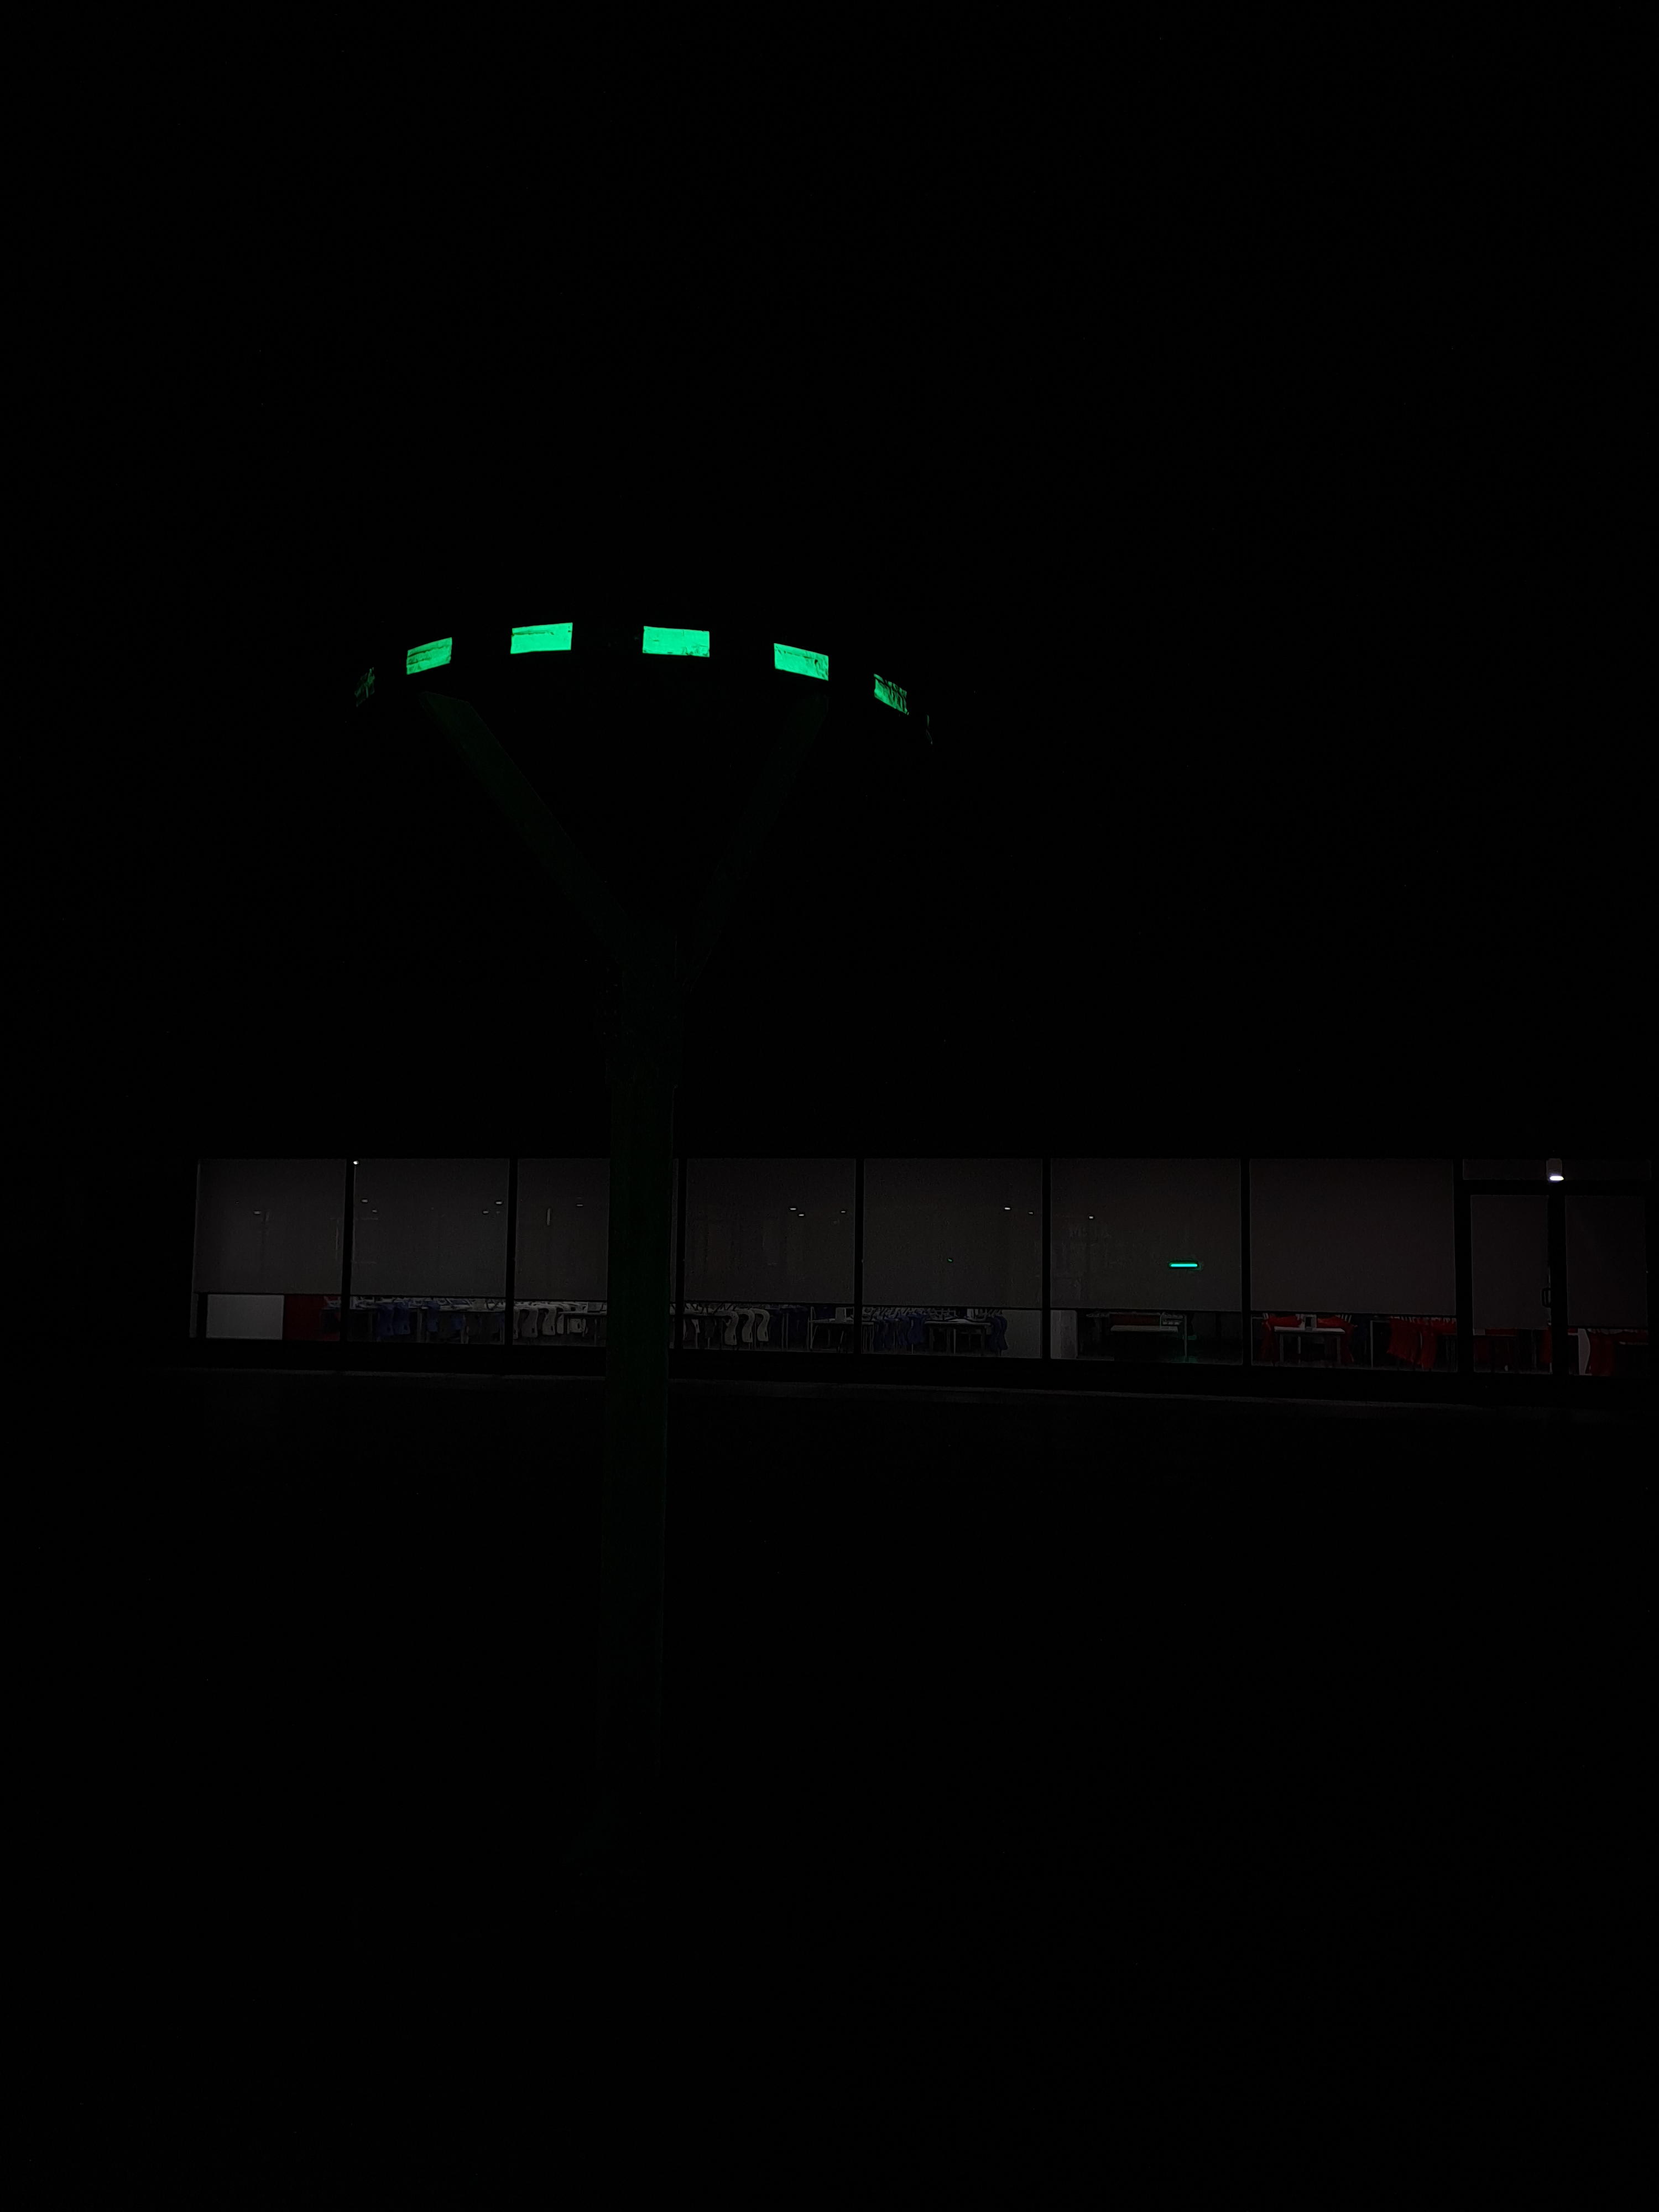hoop: (387, 611, 917, 730)
